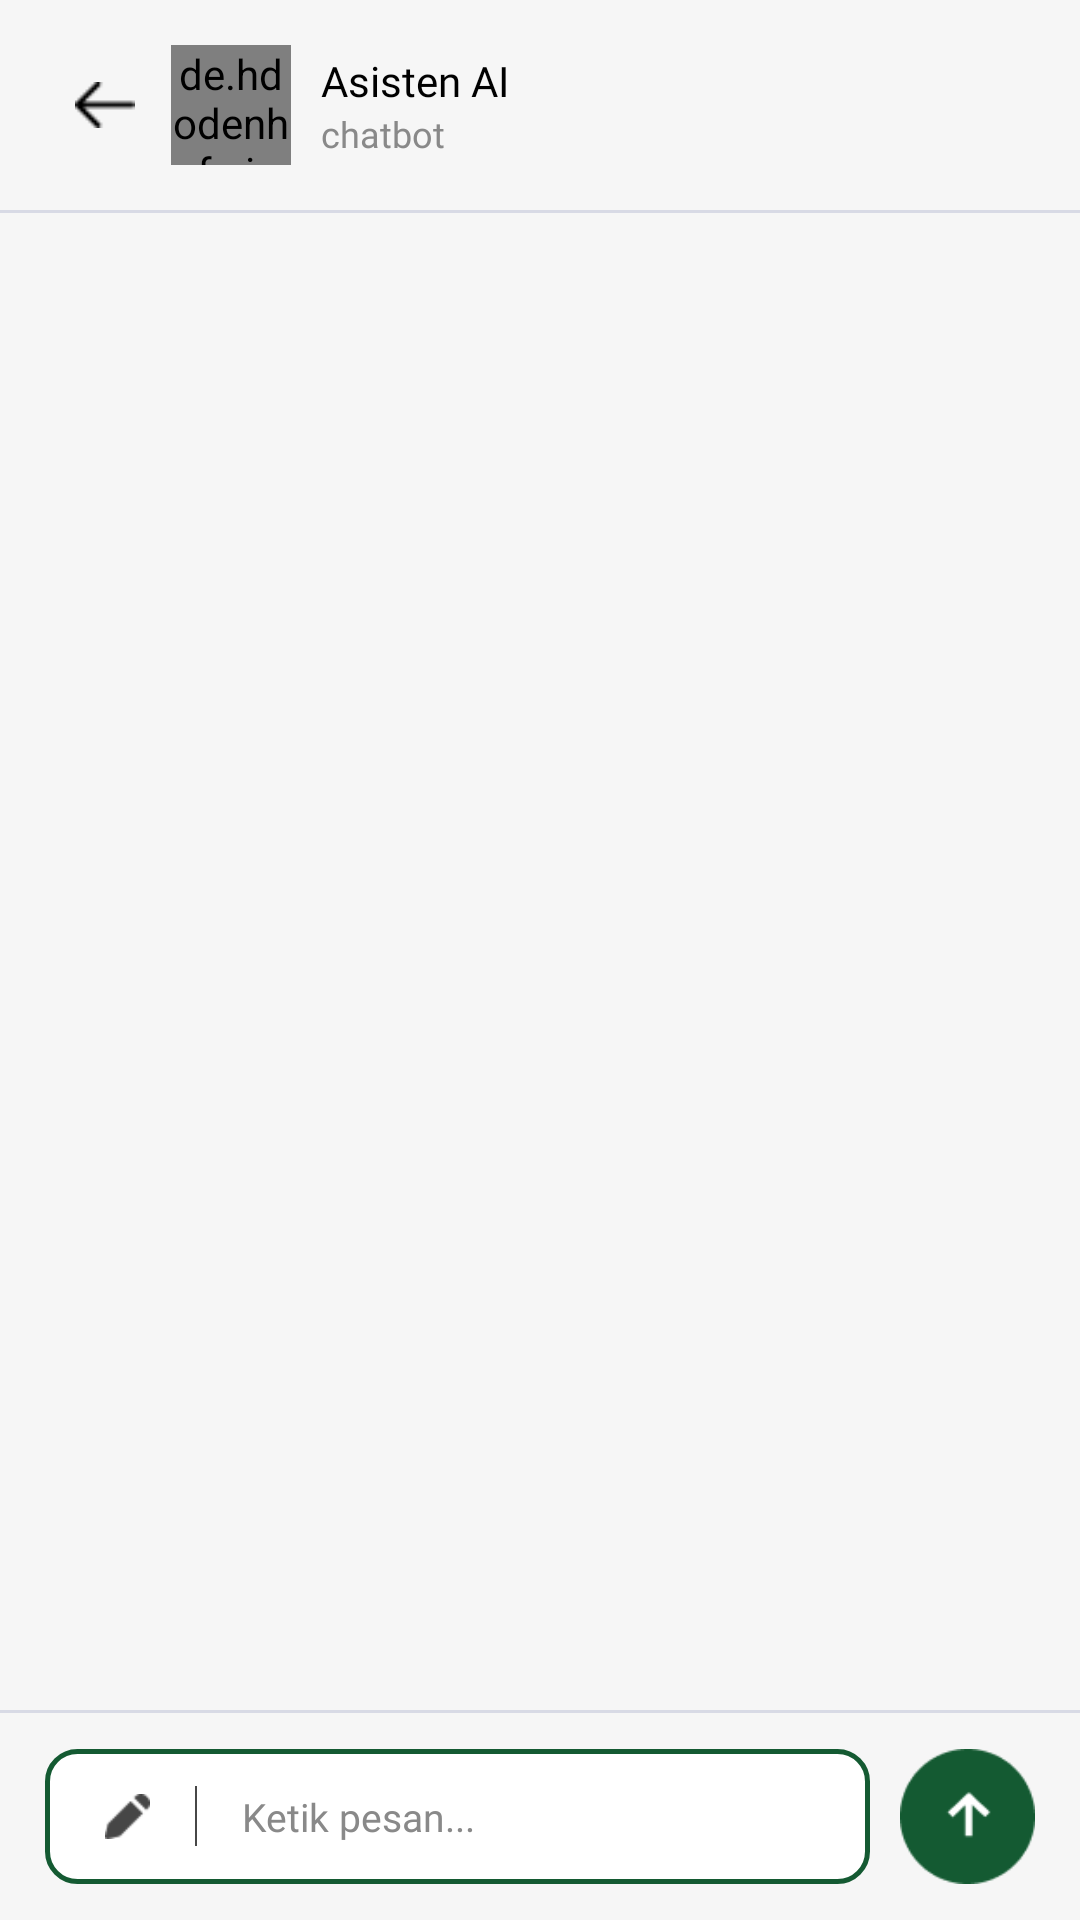

Point at icon controls on the screen. Image size 1080 x 1920, points as (x,y).
arrow left: (105,105)
pencil: (127,1816)
send: (967,1816)
